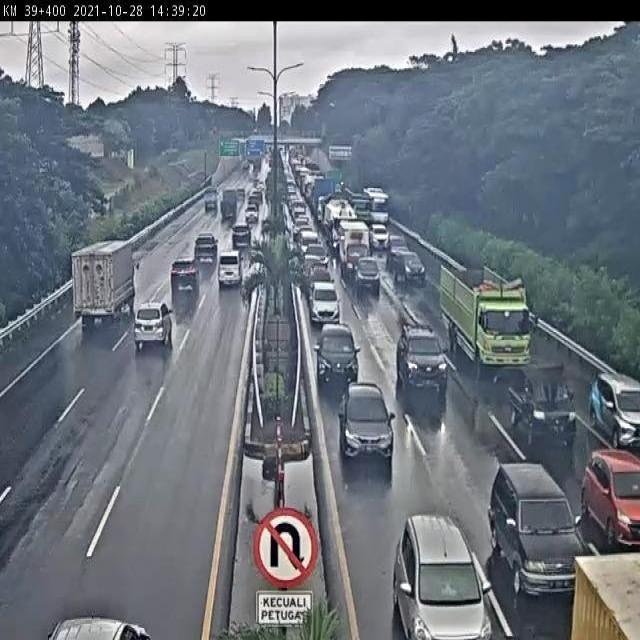car: (486, 463, 586, 592), (393, 516, 492, 640), (582, 452, 640, 545), (336, 378, 398, 454), (592, 368, 640, 452), (393, 318, 444, 390), (315, 317, 358, 379), (133, 302, 174, 342), (310, 276, 339, 321), (390, 250, 429, 282), (215, 258, 240, 294), (171, 261, 200, 292), (354, 255, 379, 285), (193, 234, 219, 262), (382, 229, 407, 255), (303, 253, 324, 280), (232, 225, 253, 251), (307, 264, 331, 285), (305, 244, 328, 265)
mid truck: (441, 264, 532, 371), (74, 239, 135, 321)
small truck: (509, 360, 577, 447), (340, 224, 370, 271)
